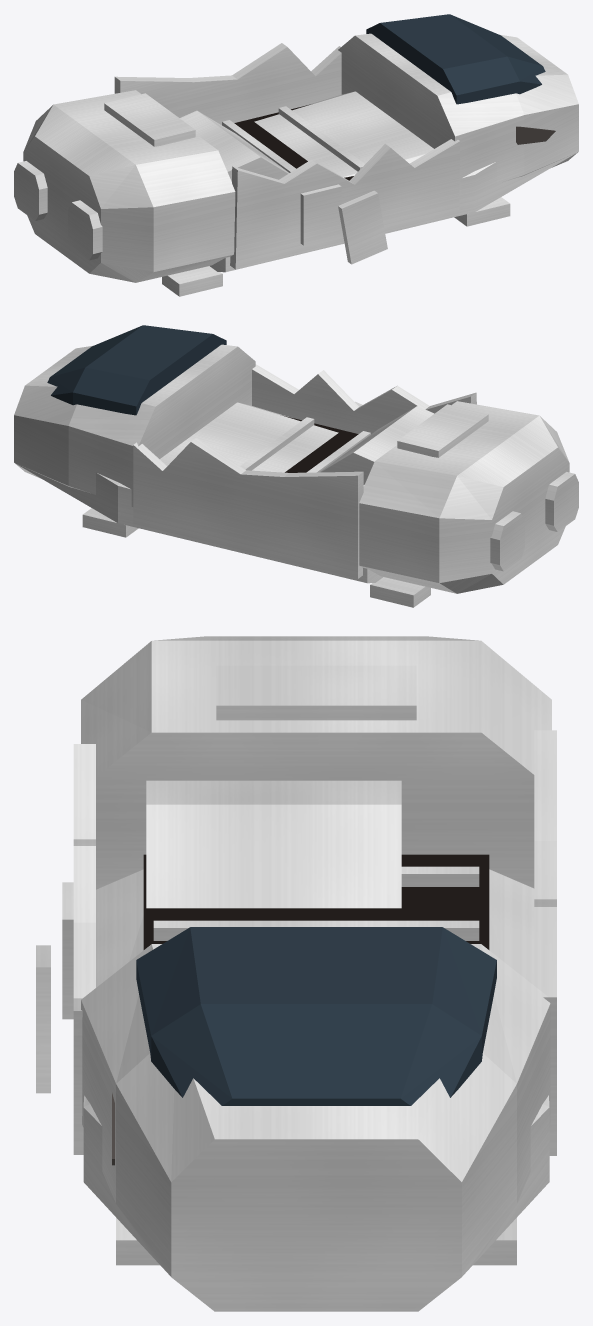
Rendered from shuttle_crashed.obj.
The picture shows the model from 3 angles, top to bottom: view 1: azimuth 30°, elevation 25°; view 2: azimuth 150°, elevation 25°; view 3: azimuth 270°, elevation 25°; orthographic projection. The views are drawn at different scales.
Visible parts, largest first — view 1: shuttle_crashed; view 2: shuttle_crashed; view 3: shuttle_crashed.
Boxes of the visible parts, <box> form: shuttle_crashed: <box>14,14,578,296</box>; shuttle_crashed: <box>14,325,578,607</box>; shuttle_crashed: <box>36,636,556,1311</box>.
Size of the model in its own units: 4.51 by 1.28 by 2.08.
